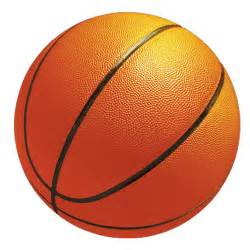basketball: (13, 11, 242, 239)
